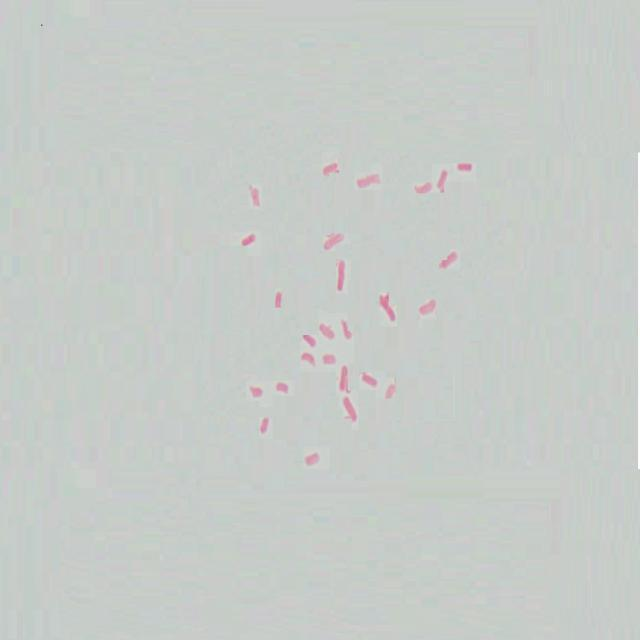E-coli: (436, 248, 457, 272), (357, 171, 381, 192), (377, 292, 395, 320), (321, 230, 345, 251), (235, 229, 257, 251), (320, 160, 341, 183), (336, 258, 347, 296), (271, 286, 287, 312), (298, 351, 318, 371), (417, 298, 438, 317), (248, 187, 264, 211), (410, 178, 432, 194), (361, 368, 377, 390), (342, 397, 355, 423), (434, 167, 448, 191), (319, 321, 336, 339), (321, 350, 339, 367), (248, 381, 264, 399), (385, 381, 397, 404), (456, 158, 471, 176), (302, 329, 317, 347), (259, 413, 272, 432), (340, 364, 349, 391), (302, 452, 319, 466), (342, 320, 352, 341), (277, 379, 290, 395)
